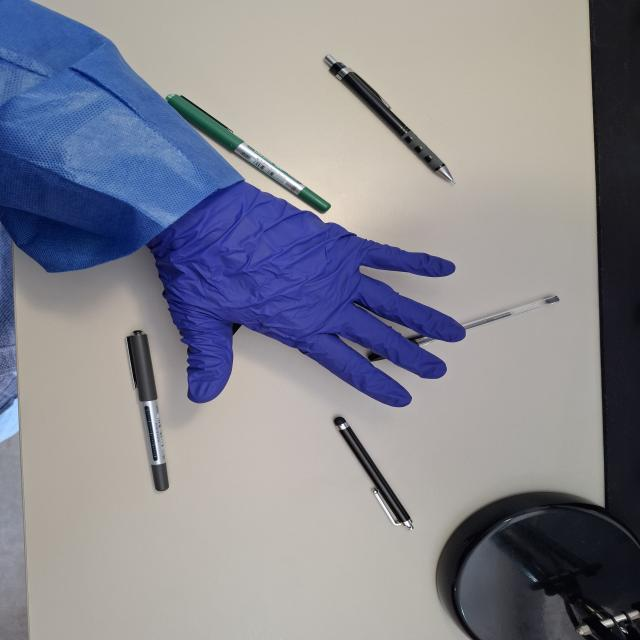glove_on: (145, 180, 471, 408)
